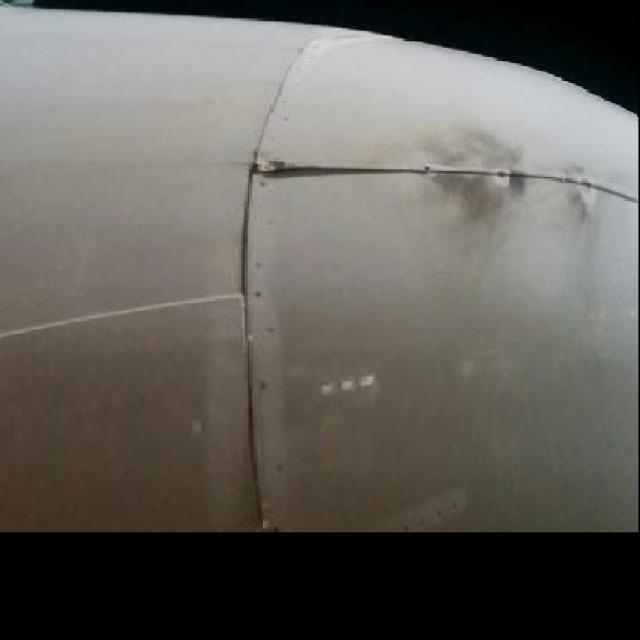crack: (261, 163, 412, 178)
